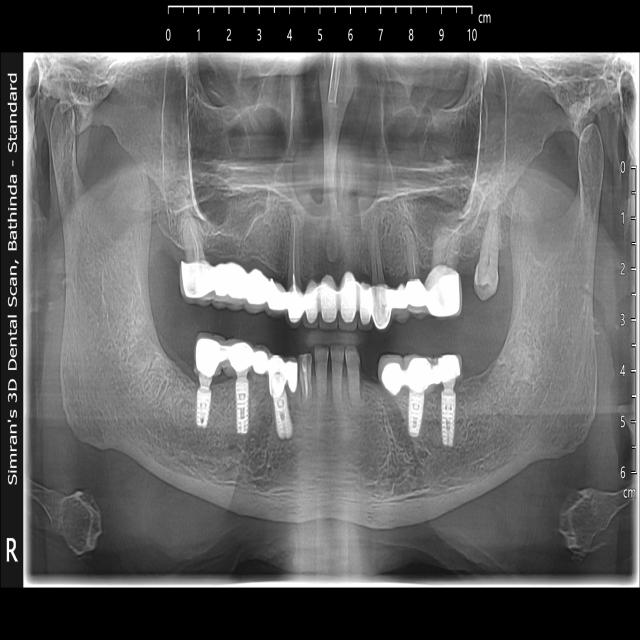Crown: (181, 261, 460, 330), (195, 338, 297, 399), (381, 354, 460, 402)
Implant: (235, 371, 252, 436), (441, 376, 456, 448), (195, 373, 213, 431), (273, 390, 292, 435), (408, 392, 425, 438)
Missing teeth: (207, 230, 279, 273), (304, 234, 368, 279), (461, 244, 478, 302)
Root Canal Treatment: (182, 217, 214, 302), (404, 223, 426, 314), (288, 215, 302, 323), (298, 353, 312, 406)
